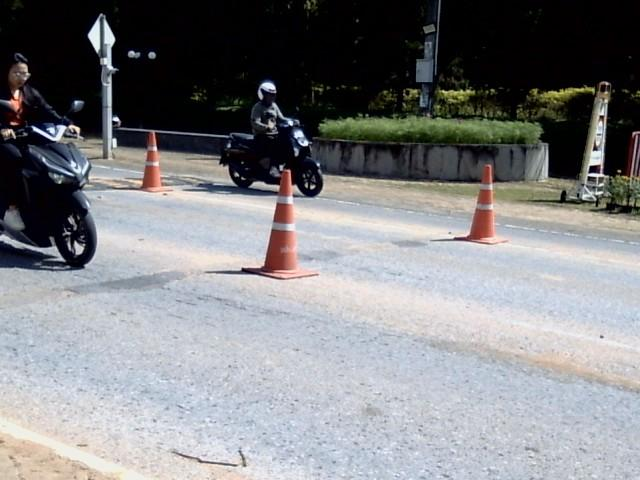helmet: (254, 79, 281, 104)
motor: (0, 122, 96, 266), (277, 118, 323, 195), (219, 133, 279, 187)
no-helmet: (0, 55, 44, 90)
person: (0, 52, 80, 229), (251, 81, 285, 177)
